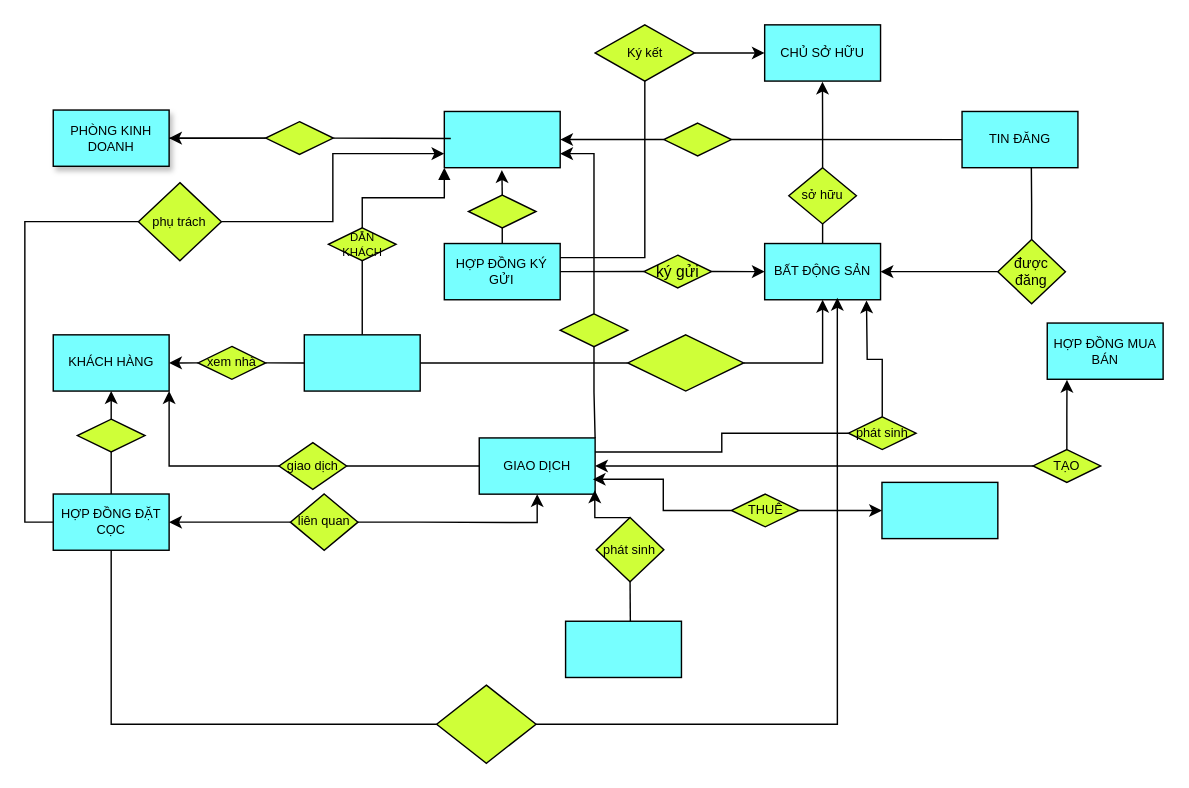
This 1189x788 diagram has some shape labels left out. The centre of each missing label's shape, as x and y in pixels:
CHỐT: point 593,329
có lịch xem: point 685,362
HOA HỒNG: point 622,648
HỢP ĐỒNG THUÊ: point 939,510
LỊCH XEM NHÀ: point 361,362
MÔI GIỚI: point 501,139
quản lý: point 298,137
THỰC HIỆN: point 501,211
đăng tin: point 696,139
được đặt cọc: point 485,723
ĐẶT CỌC: point 110,435
